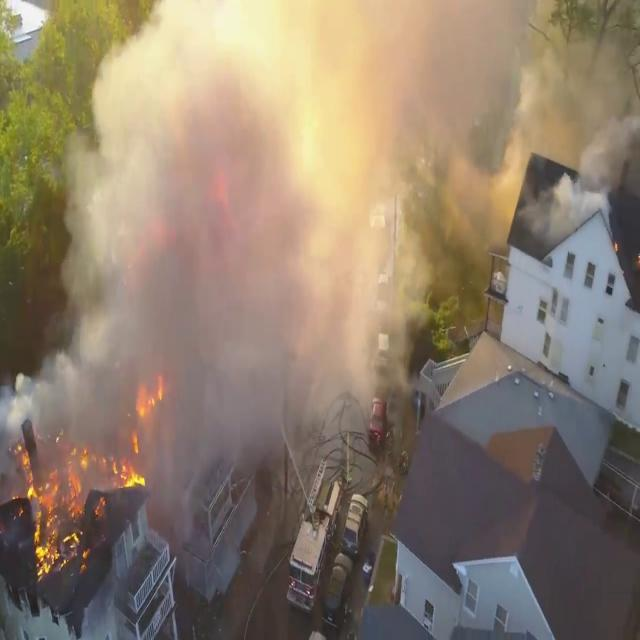Fire: (12, 433, 150, 571), (12, 436, 103, 572), (115, 374, 165, 489)
Smoke: (26, 0, 428, 467)
